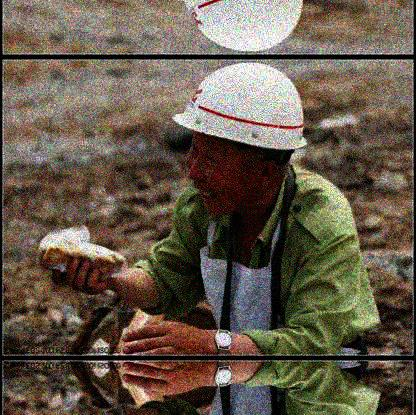helmet: (171, 61, 308, 215)
